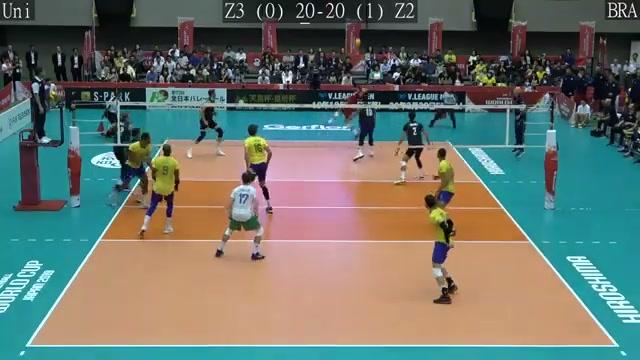ball: (354, 36, 365, 49)
